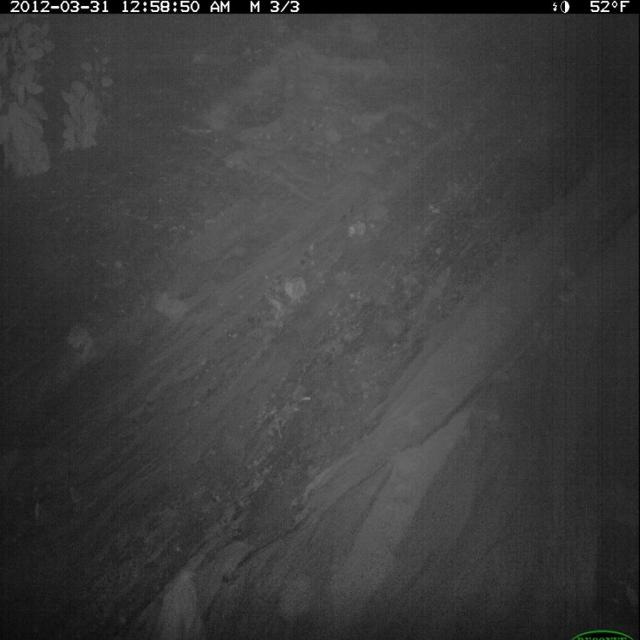bobcat: (151, 563, 208, 640)
